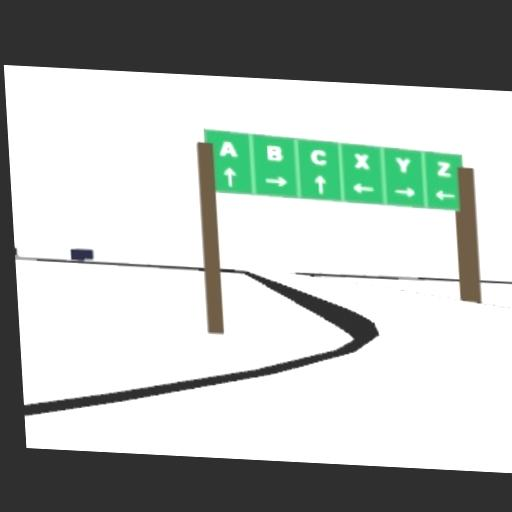A: (218, 139, 237, 155)
B: (265, 143, 283, 159)
C: (310, 147, 326, 165)
Left: (352, 181, 374, 194), (434, 188, 454, 199)
Right: (264, 174, 288, 185), (393, 185, 415, 196)
Straight: (313, 172, 326, 192), (222, 166, 235, 185)
X: (353, 151, 369, 167)
Y: (394, 155, 410, 170)
Z: (436, 159, 449, 174)
